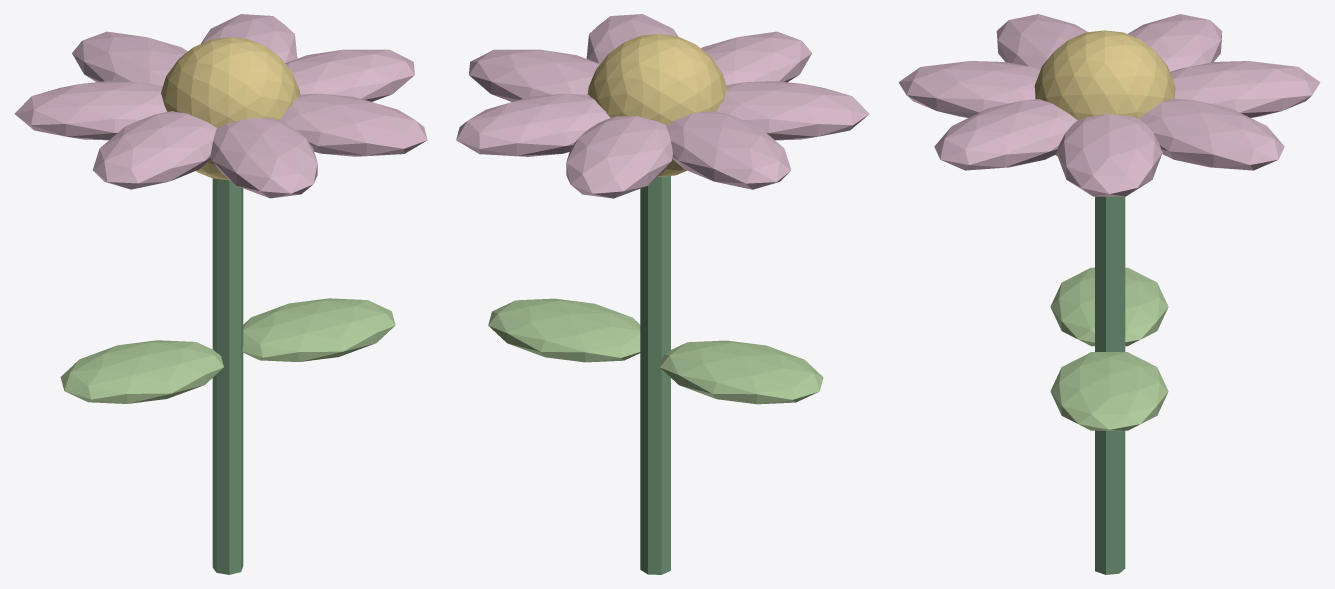
Rendered from flower_pink.glb.
The picture shows the model from 3 angles, left to right: view 1: azimuth 30°, elevation 25°; view 2: azimuth 150°, elevation 25°; view 3: azimuth 270°, elevation 25°; orthographic projection.
Parts seen in each view (by area): view 1: Stalk, Pollen, Leaf_-1, Leaf_1, Petal_3, Petal_1, Petal_2, Petal_4, Petal_0, Petal_5, Petal_6; view 2: Stalk, Pollen, Leaf_-1, Leaf_1, Petal_4, Petal_6, Petal_5, Petal_3, Petal_0, Petal_2, Petal_1; view 3: Pollen, Stalk, Leaf_1, Petal_6, Petal_1, Petal_0, Petal_5, Petal_2, Leaf_-1, Petal_4, Petal_3.
Boxes of the visible parts, left/top/right/bottom form: Stalk: left=212, top=178, right=243, bottom=574; Pollen: left=161, top=37, right=300, bottom=180; Leaf_-1: left=60, top=340, right=223, bottom=403; Leaf_1: left=242, top=298, right=395, bottom=361; Petal_3: left=92, top=111, right=216, bottom=189; Petal_1: left=279, top=93, right=427, bottom=156; Petal_2: left=211, top=118, right=317, bottom=198; Petal_4: left=14, top=81, right=167, bottom=140; Petal_0: left=285, top=49, right=414, bottom=101; Petal_5: left=72, top=31, right=187, bottom=86; Petal_6: left=201, top=14, right=297, bottom=63; Stalk: left=640, top=176, right=670, bottom=574; Pollen: left=587, top=34, right=727, bottom=176; Leaf_-1: left=660, top=340, right=823, bottom=404; Leaf_1: left=488, top=298, right=640, bottom=362; Petal_4: left=666, top=111, right=791, bottom=189; Petal_6: left=456, top=93, right=610, bottom=156; Petal_5: left=566, top=116, right=672, bottom=198; Petal_3: left=716, top=81, right=869, bottom=140; Petal_0: left=469, top=49, right=599, bottom=101; Petal_2: left=701, top=31, right=811, bottom=85; Petal_1: left=586, top=14, right=678, bottom=63; Pollen: left=1034, top=30, right=1175, bottom=156; Stalk: left=1095, top=196, right=1125, bottom=574; Leaf_1: left=1050, top=352, right=1168, bottom=430; Petal_6: left=1140, top=98, right=1284, bottom=170; Petal_1: left=934, top=99, right=1077, bottom=170; Petal_0: left=1056, top=114, right=1162, bottom=196; Petal_5: left=1170, top=61, right=1320, bottom=117; Petal_2: left=898, top=61, right=1040, bottom=117; Leaf_-1: left=1050, top=267, right=1168, bottom=346; Petal_4: left=1128, top=14, right=1222, bottom=71; Petal_3: left=996, top=14, right=1087, bottom=69.
Size of the model in its own units: 0.9049 by 1.29 by 0.9281.
